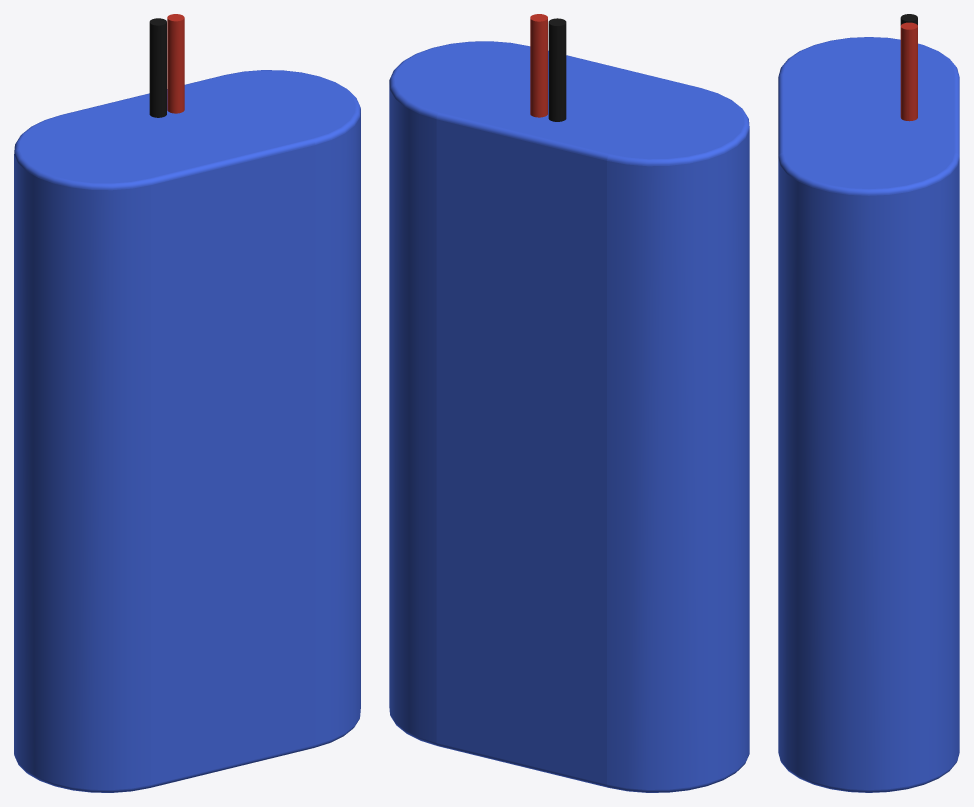
File: ada-354.glb
The picture shows the model from 3 angles, left to right: view 1: azimuth 30°, elevation 25°; view 2: azimuth 150°, elevation 25°; view 3: azimuth 270°, elevation 25°; orthographic projection. The views are drawn at different scales.
Visible parts, largest first — view 1: 0.08333333333333333_0.16666666666666666_0.8333333333333334_0, 0_0_0_0, 0.5833333333333334_0_0_0; view 2: 0.08333333333333333_0.16666666666666666_0.8333333333333334_0, 0_0_0_0, 0.5833333333333334_0_0_0; view 3: 0.08333333333333333_0.16666666666666666_0.8333333333333334_0, 0.5833333333333334_0_0_0.
Boxes of the visible parts, x1=… form: 0.08333333333333333_0.16666666666666666_0.8333333333333334_0: x1=14, y1=70, x2=360, y2=792; 0_0_0_0: x1=149, y1=18, x2=166, y2=117; 0.5833333333333334_0_0_0: x1=167, y1=14, x2=184, y2=113; 0.08333333333333333_0.16666666666666666_0.8333333333333334_0: x1=389, y1=41, x2=749, y2=792; 0_0_0_0: x1=548, y1=18, x2=566, y2=121; 0.5833333333333334_0_0_0: x1=530, y1=14, x2=547, y2=117; 0.08333333333333333_0.16666666666666666_0.8333333333333334_0: x1=778, y1=37, x2=959, y2=792; 0.5833333333333334_0_0_0: x1=900, y1=22, x2=917, y2=121.
Size of the model in its own units: 3.66 by 7.6 by 1.8.
